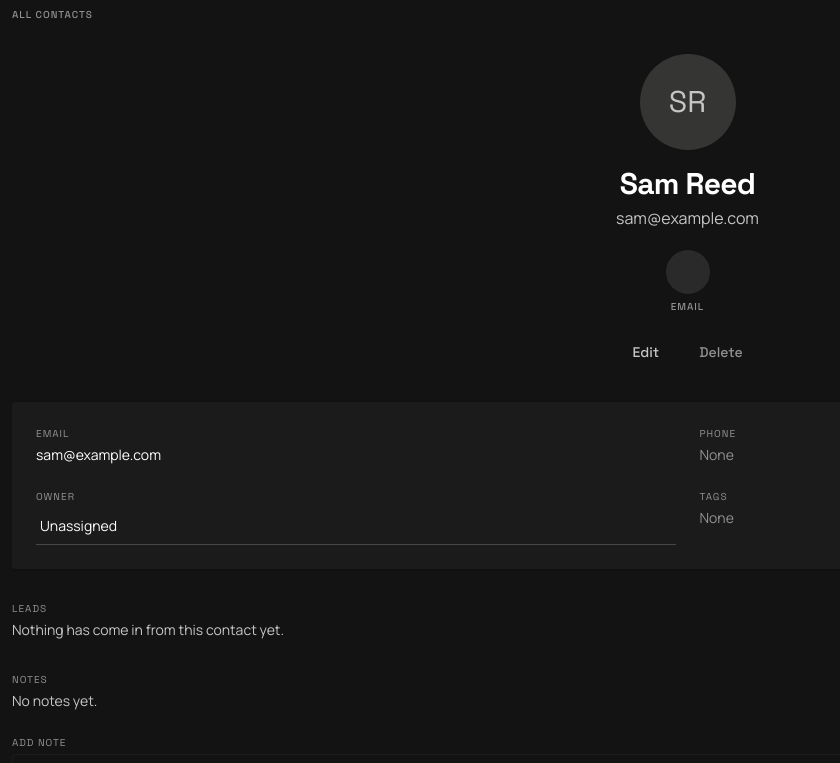
Scenario: ContactDetail › lets the viewer back out of a delete
Click the button "Delete": (721, 352) x1=683 y1=334 x2=758 y2=370
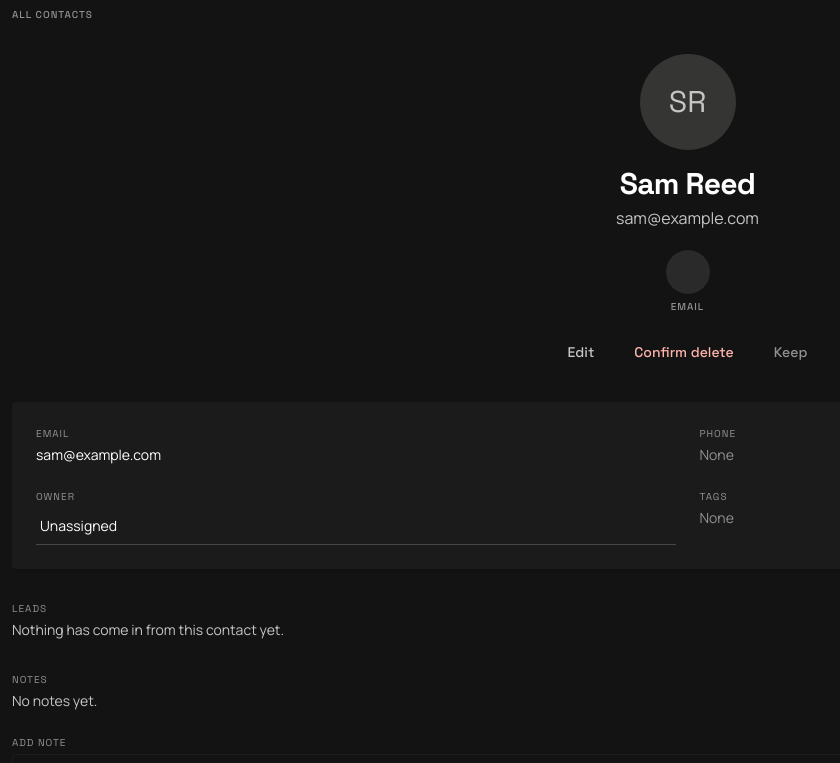
Click the button "Keep": (791, 352) x1=758 y1=334 x2=824 y2=370
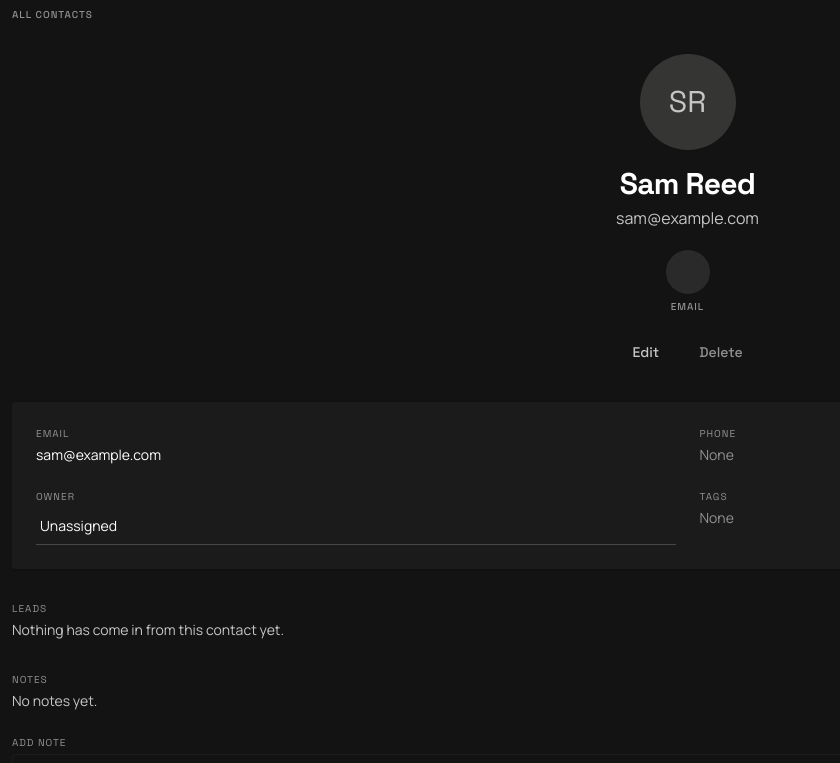
Check: the button "Confirm delete" is gone
